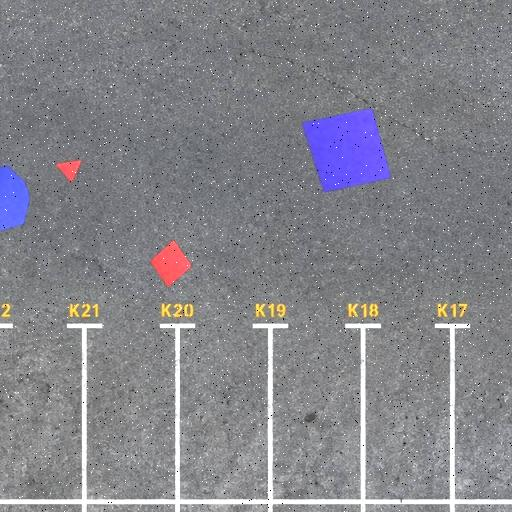BLUE_SQUARE: (301, 107, 392, 193)
RED_SQUARE: (149, 238, 193, 288)
